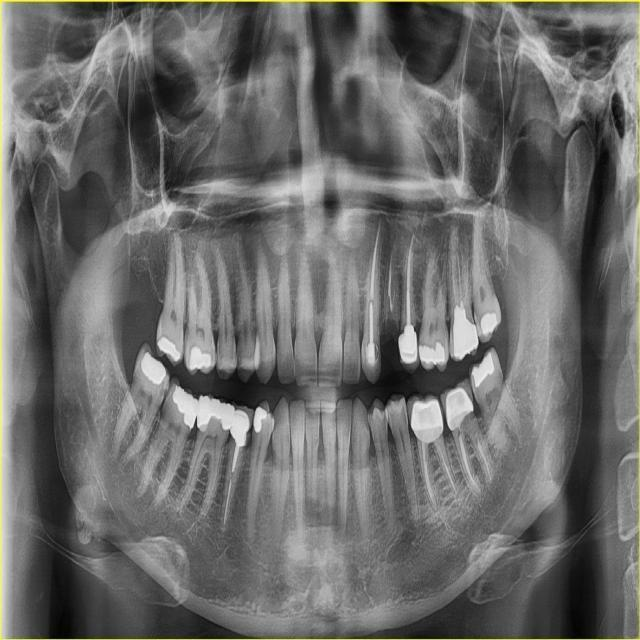71: (367, 300, 375, 364), (230, 444, 240, 472), (407, 288, 410, 324)
74: (454, 431, 480, 496), (436, 443, 458, 494), (368, 219, 382, 299), (420, 441, 434, 506), (475, 439, 494, 481), (387, 256, 398, 311), (406, 235, 414, 292), (223, 479, 232, 526), (463, 260, 470, 306), (451, 256, 457, 306), (457, 254, 462, 301)
NucleOSS Implant: (168, 380, 209, 430), (194, 394, 236, 435), (452, 302, 479, 360), (464, 351, 502, 389), (134, 352, 171, 387), (154, 334, 186, 365), (418, 342, 445, 367), (189, 345, 212, 373), (478, 308, 500, 337), (248, 406, 269, 433), (399, 322, 415, 354), (230, 422, 247, 446)
Sterngold Implant: (377, 314, 401, 344), (157, 381, 169, 401), (243, 425, 254, 444), (235, 349, 244, 369), (474, 311, 480, 330), (164, 387, 171, 402)
Straumann Implant: (362, 347, 382, 383)
Zimmer Implant: (437, 374, 479, 433), (406, 392, 444, 445), (396, 328, 420, 377), (229, 403, 255, 433)
